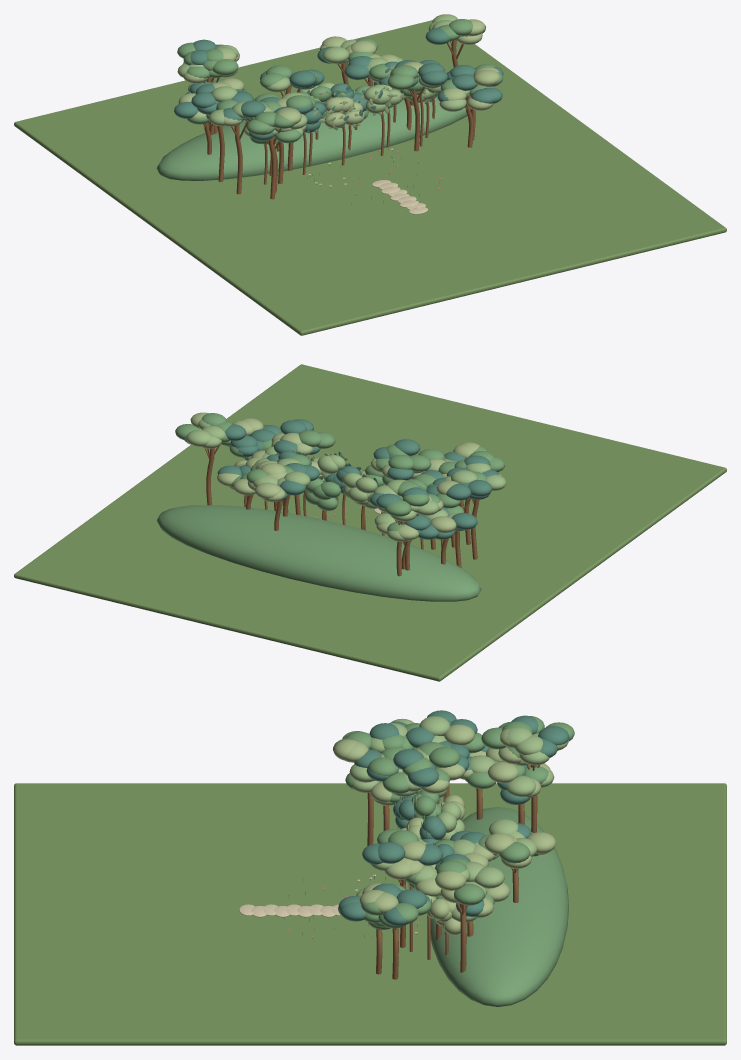
The model's file is journey-forest.glb.
3 views of the same model, one above another, from view 1: azimuth 30°, elevation 25°; view 2: azimuth 150°, elevation 25°; view 3: azimuth 270°, elevation 25° (orthographic). The views are drawn at different scales.
Parts seen in each view (by area): view 1: Forest_bending tree; view 2: Forest_bending tree; view 3: Forest_bending tree.
Part boxes in pixels (box(x1,y1,x2,y2)): Forest_bending tree: box(14, 14, 726, 335); Forest_bending tree: box(14, 364, 726, 681); Forest_bending tree: box(14, 710, 726, 1045).
Bounding box in the file's own units: 24 × 6.68 × 28.
